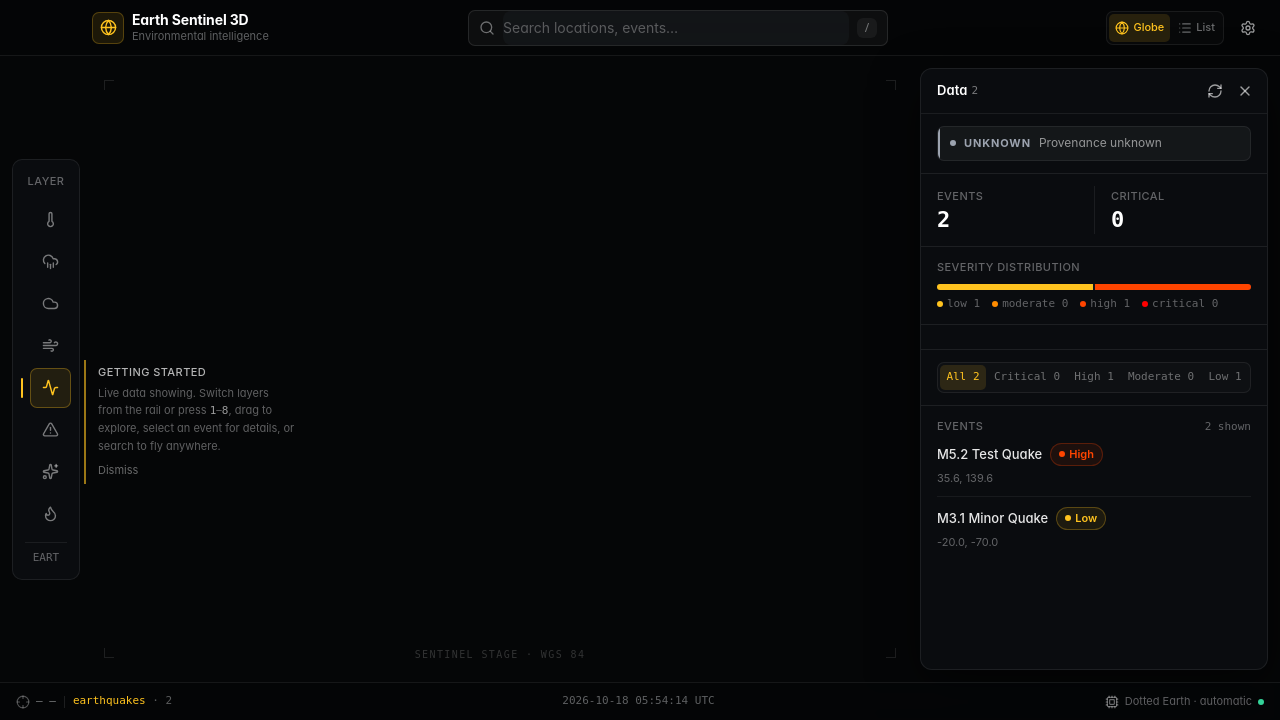
browser Back/Forward via popstate (T3.3) › Back closes the event detail; Forward restores it
Note: Select an event by clicking its list row (discrete navigation → push).
Step 1. Click the button "M5.2 Test Quake high 35.6, 139.6" → (1094, 468), box [937,439,1251,496]
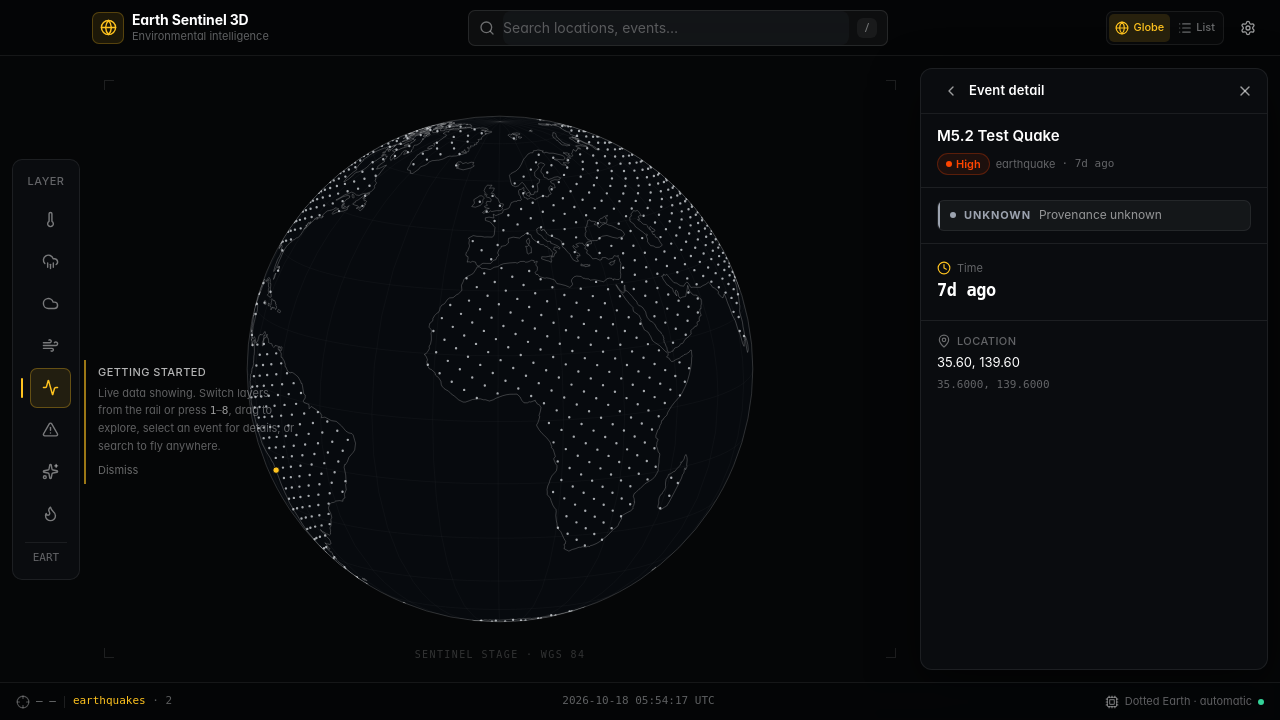
Result: the element labelled "Event detail" is shown at [920,68,1268,670]
